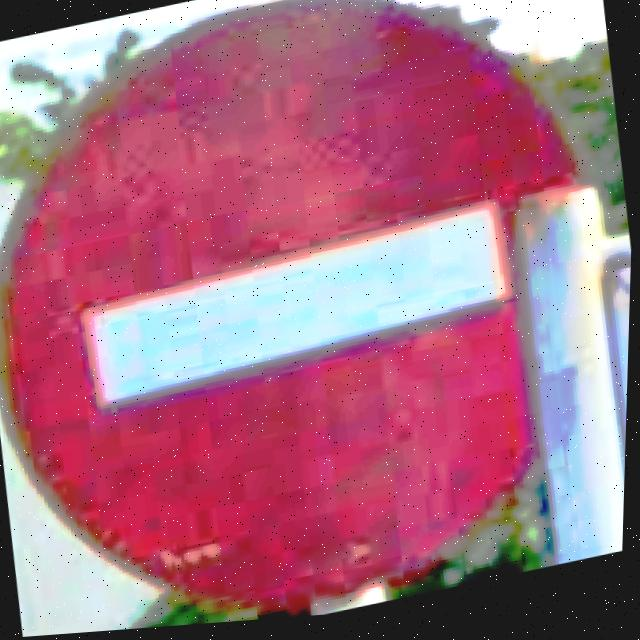noentry: (0, 2, 587, 608)
